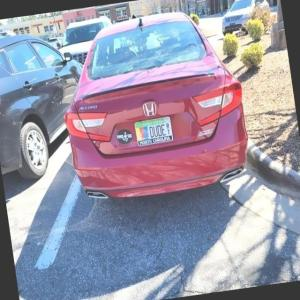Plate: (134, 116, 173, 146)
